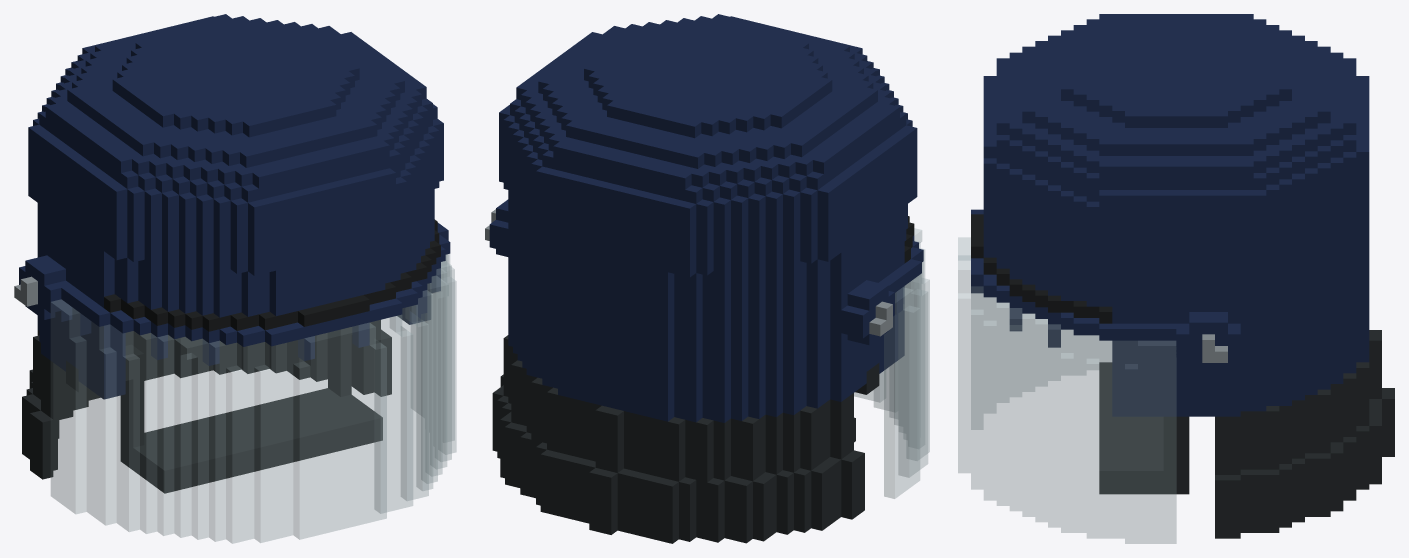
Rendered from riot_helmet.glb.
3 views of the same model, side by side, from view 1: azimuth 30°, elevation 25°; view 2: azimuth 150°, elevation 25°; view 3: azimuth 270°, elevation 25° (orthographic).
Visible parts, largest first — view 1: helmet:compound; view 2: helmet:compound; view 3: helmet:compound.
Boxes of the visible parts, x1,y1,x2,y2 form: helmet:compound: [14, 14, 456, 543]; helmet:compound: [485, 14, 929, 543]; helmet:compound: [958, 14, 1394, 543].
Size of the model in its own units: 0.36 by 0.33 by 0.34.
